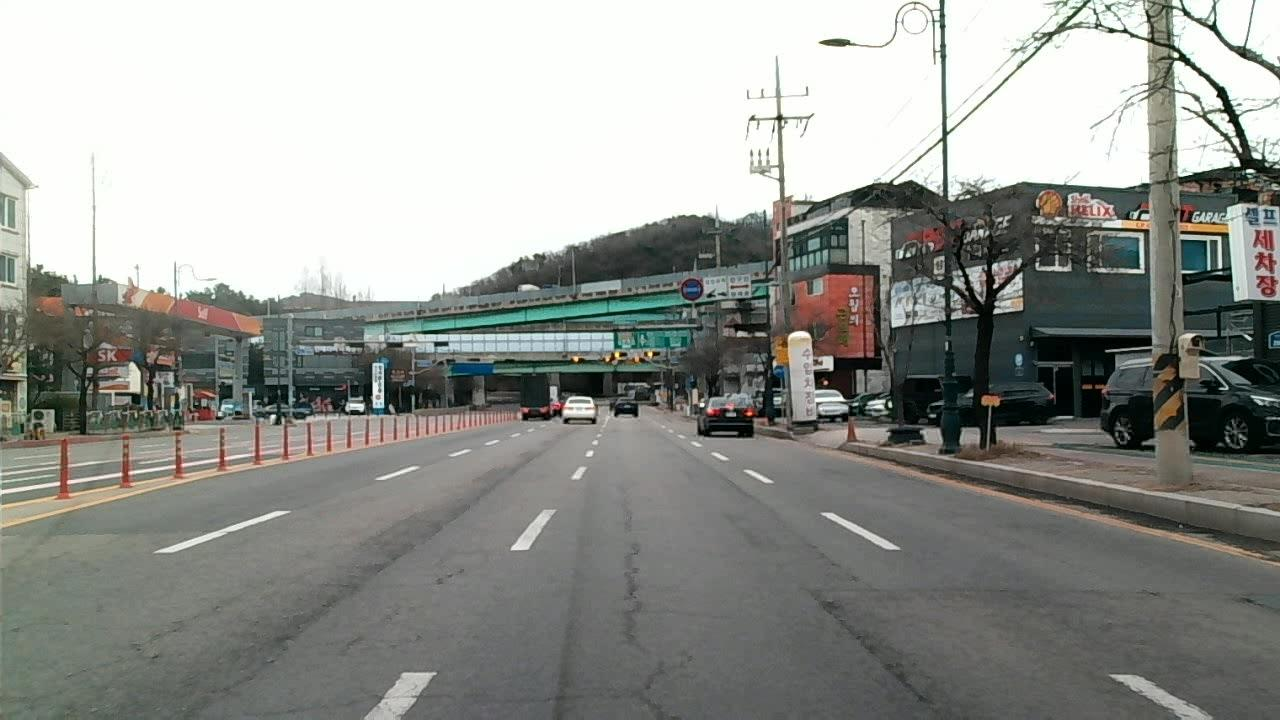vcrack: (806, 587, 927, 706), (612, 497, 675, 720), (193, 616, 328, 720), (331, 538, 419, 609), (787, 525, 855, 577), (118, 622, 177, 666), (1231, 590, 1277, 617)
